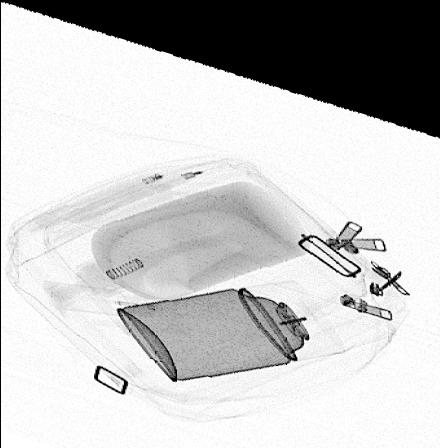Sprayer: (119, 260, 347, 372)
